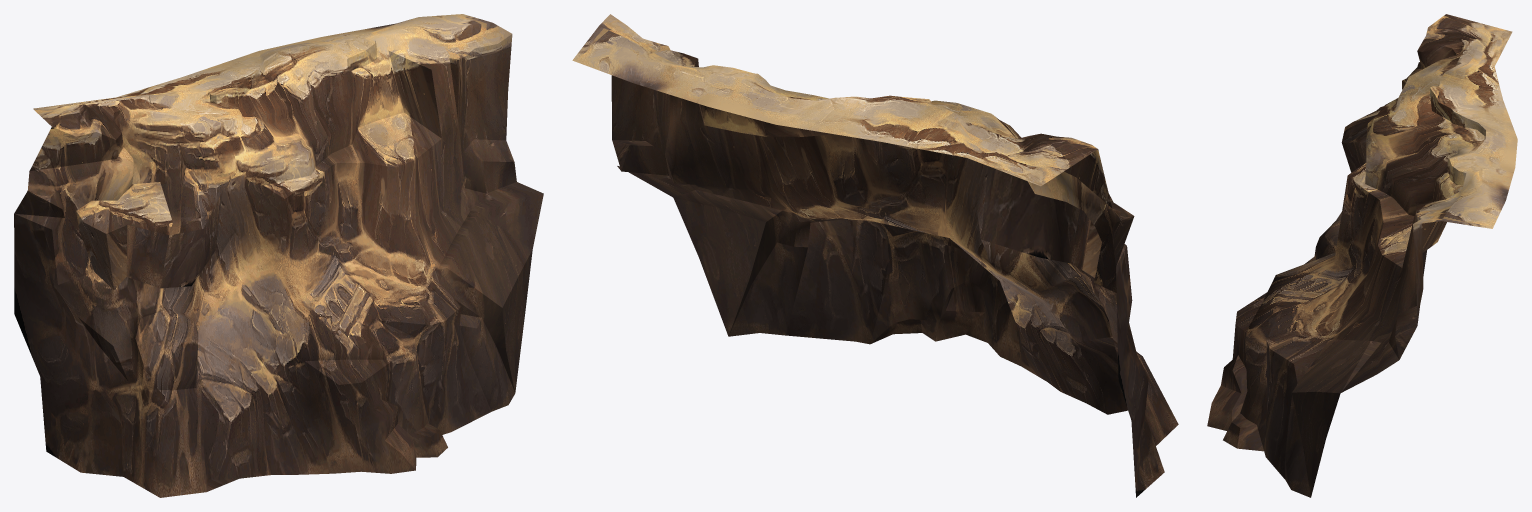
File: sm_shitou_4.FBX
3 views of the same model, side by side, from view 1: azimuth 30°, elevation 25°; view 2: azimuth 150°, elevation 25°; view 3: azimuth 270°, elevation 25° (orthographic). The views are drawn at different scales.
Parts seen in each view (by area): view 1: sm_shitou_4; view 2: sm_shitou_4; view 3: sm_shitou_4.
Part boxes in pixels (x1,y1,x2,y2): sm_shitou_4: (14,14,543,497); sm_shitou_4: (572,14,1178,497); sm_shitou_4: (1207,14,1517,497).
Bounding box in the file's own units: 188 × 116 × 109.
